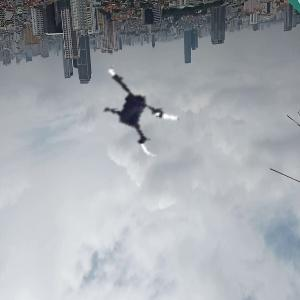drone: (91, 58, 196, 163)
